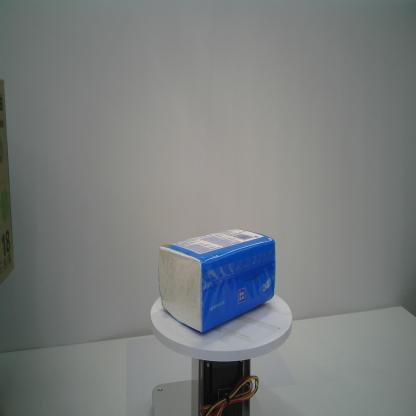Tissue: (159, 228, 277, 333)
